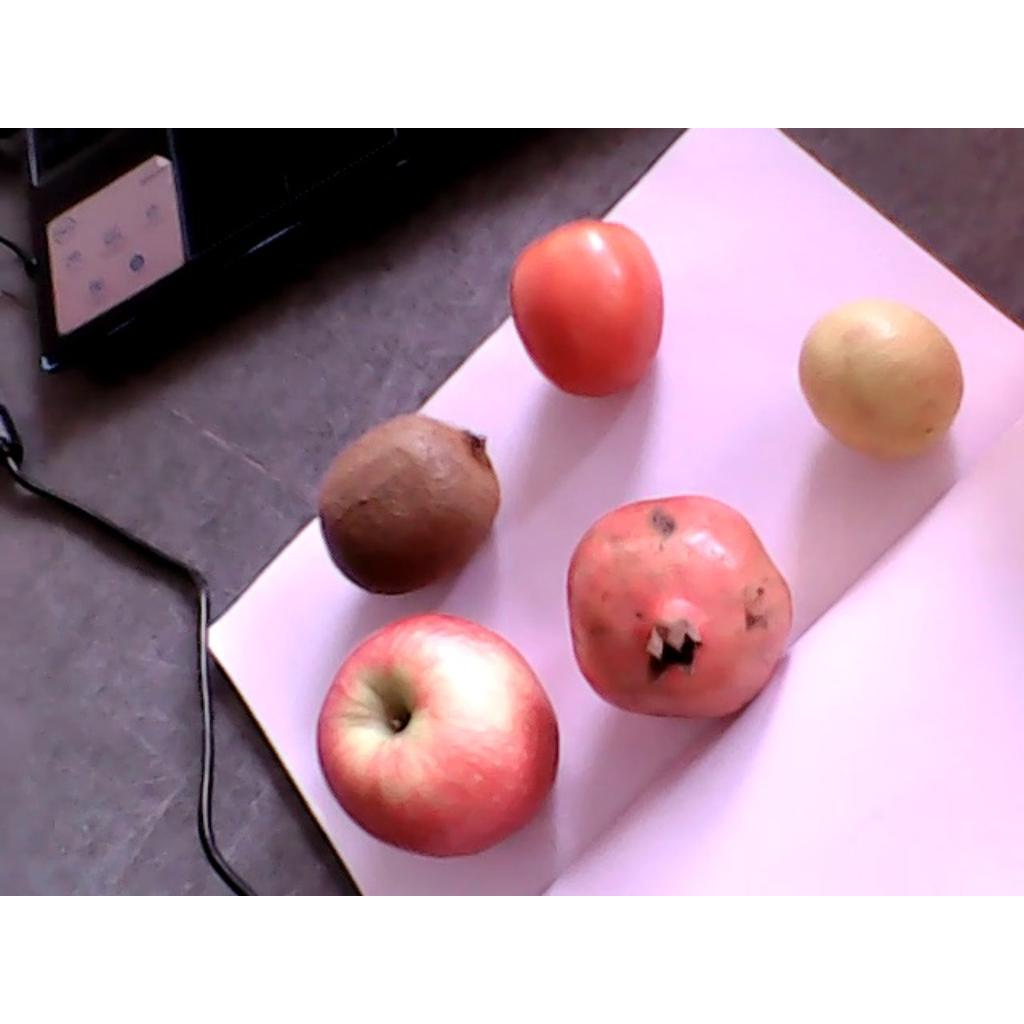apple: (317, 612, 558, 859)
kiwi: (317, 413, 500, 594)
lemon: (798, 303, 962, 459)
pomegranate: (567, 496, 794, 717)
tomato: (510, 219, 664, 398)
